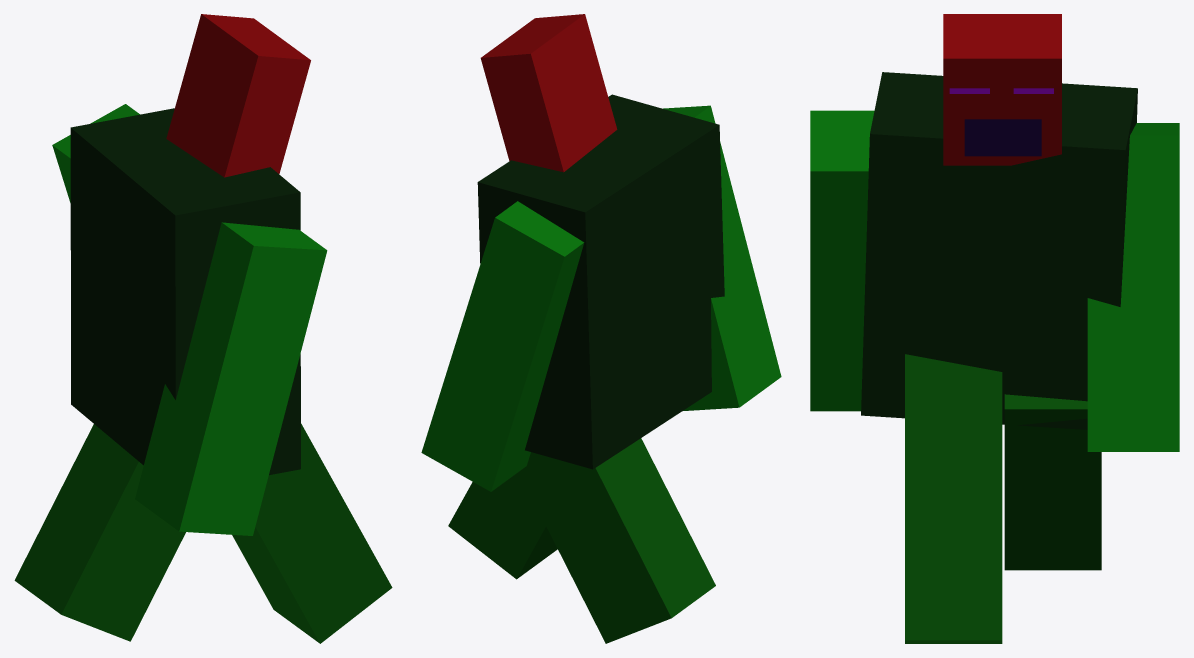
Rendered from walk_000018.obj.
3 renders of one model, left to right at view 1: azimuth 30°, elevation 25°; view 2: azimuth 150°, elevation 25°; view 3: azimuth 270°, elevation 25°, orthographic. The views are drawn at different scales.
Visible parts, largest first — view 1: Cube, leg.002_Cube.006, leg_Cube.001, leg.001_Cube.007, Cube.001_Cube.003, leg.003_Cube.002; view 2: Cube, leg.003_Cube.002, leg_Cube.001, Cube.001_Cube.003, leg.002_Cube.006, leg.001_Cube.007; view 3: Cube, leg.001_Cube.007, leg.003_Cube.002, leg.002_Cube.006, leg_Cube.001, Cube.001_Cube.003, Plane.002.
Boxes of the visible parts, x1,y1,x2,y2 form: Cube: (70,108,300,475); leg.002_Cube.006: (135,222,327,535); leg_Cube.001: (14,424,185,641); leg.001_Cube.007: (232,423,392,643); Cube.001_Cube.003: (166,14,310,177); leg.003_Cube.002: (52,104,139,202); Cube: (477,94,724,469); leg.003_Cube.002: (421,201,584,491); leg_Cube.001: (519,438,715,643); Cube.001_Cube.003: (480,14,617,172); leg.002_Cube.006: (663,105,781,411); leg.001_Cube.007: (448,472,557,579); Cube: (861,72,1137,429); leg.001_Cube.007: (905,354,1002,643); leg.003_Cube.002: (1087,123,1179,451); leg.002_Cube.006: (810,110,874,411); leg_Cube.001: (1004,394,1101,570); Cube.001_Cube.003: (943,14,1061,165); Plane.002: (964,119,1041,156).
Size of the model in its own units: 3.19 by 6.3 by 3.47.
